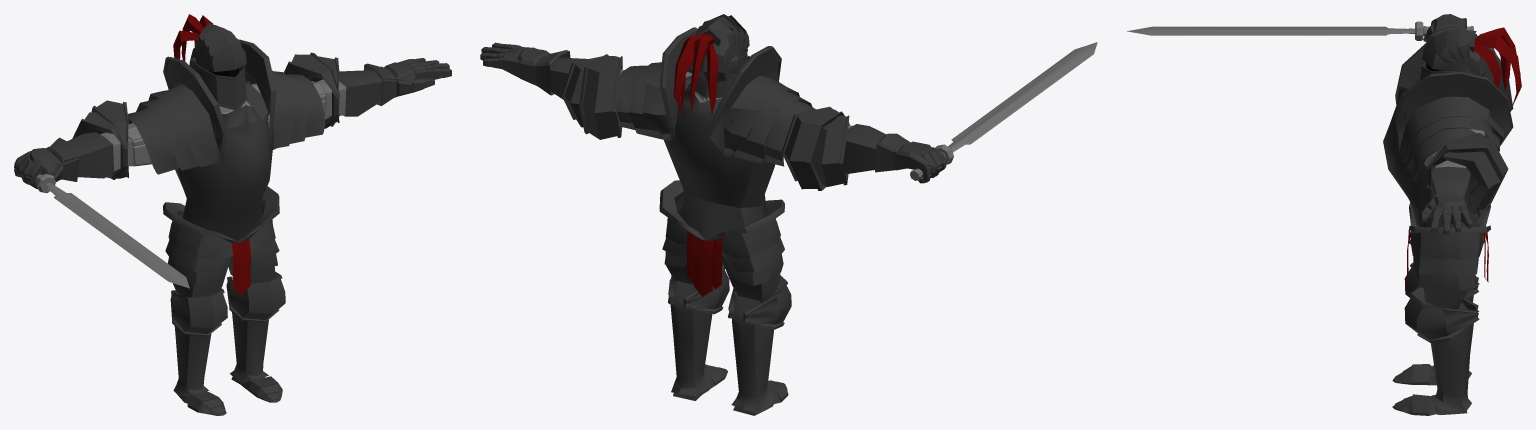
File: knight.glb
The picture shows the model from 3 angles, left to right: view 1: azimuth 30°, elevation 25°; view 2: azimuth 150°, elevation 25°; view 3: azimuth 270°, elevation 25°; orthographic projection. The views are drawn at different scales.
Parts seen in each view (by area): view 1: mesh_id44, mesh_id45, mesh_id46; view 2: mesh_id44, mesh_id46, mesh_id45; view 3: mesh_id44, mesh_id45, mesh_id46.
Boxes of the visible parts, x1,y1,x2,y2 form: mesh_id44: [14, 23, 451, 415]; mesh_id45: [35, 79, 346, 288]; mesh_id46: [173, 14, 250, 295]; mesh_id44: [480, 14, 946, 415]; mesh_id46: [673, 34, 722, 296]; mesh_id45: [616, 42, 1097, 180]; mesh_id44: [1383, 14, 1513, 415]; mesh_id45: [1127, 21, 1484, 167]; mesh_id46: [1407, 27, 1521, 282].
Bounding box in the file's own units: 0.512 × 0.4125 × 0.4032.
Materials: 4 (4 with a texture image).
